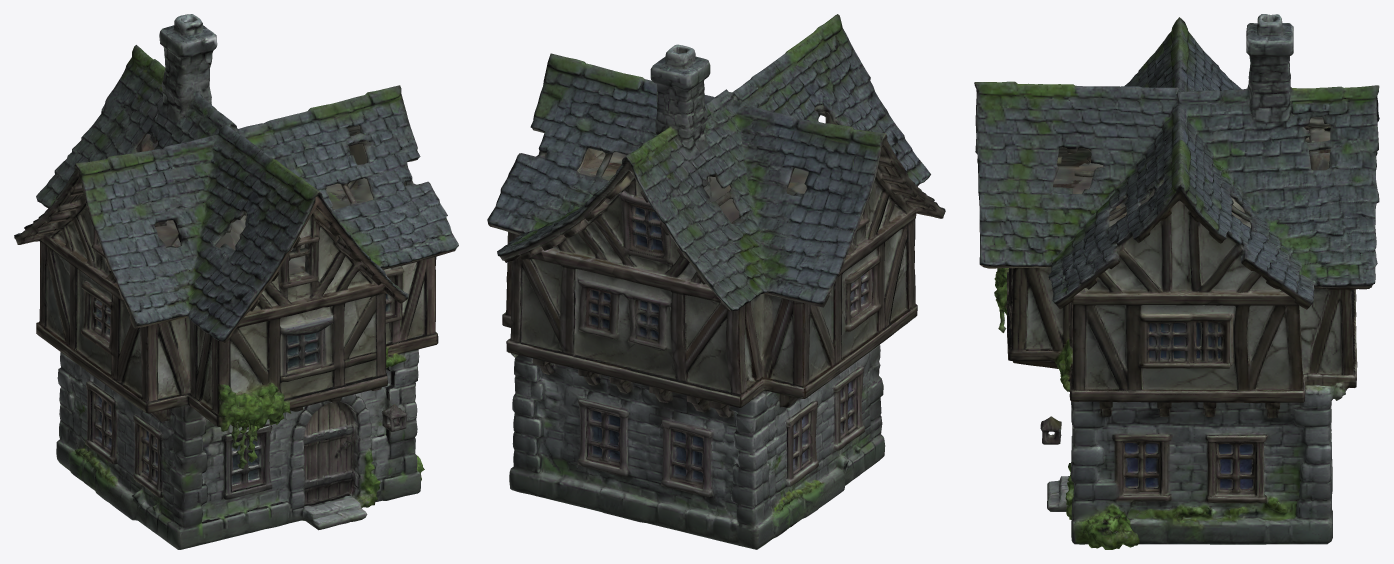
3 views of the same model, side by side, from view 1: azimuth 30°, elevation 25°; view 2: azimuth 150°, elevation 25°; view 3: azimuth 270°, elevation 25° (orthographic). The views are drawn at different scales.
Visible parts, largest first — view 1: Mesh_0; view 2: Mesh_0; view 3: Mesh_0.
Part boxes in pixels (x1,y1,x2,y2): Mesh_0: [14, 14, 458, 549]; Mesh_0: [487, 14, 945, 549]; Mesh_0: [974, 14, 1379, 549].
Size of the model in its own units: 78.23 by 100 by 80.24.
Materials: 1 (1 with a texture image).
